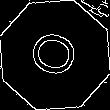O_E: (24, 26, 86, 84)
